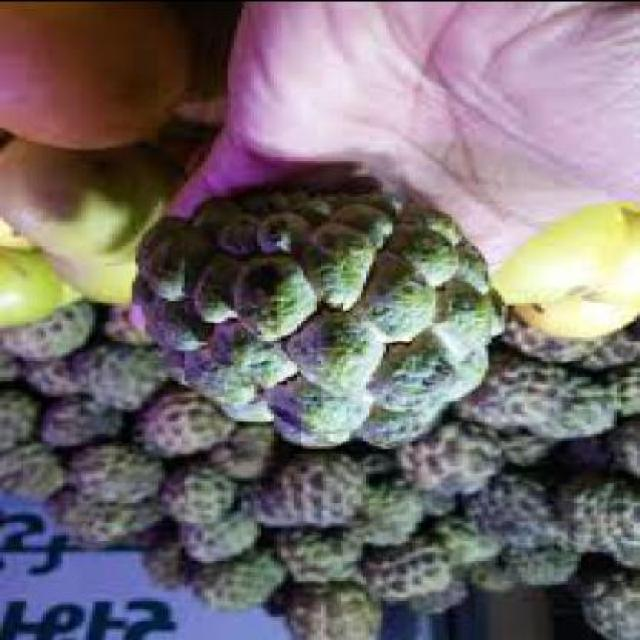BIODEGRADABLE: (132, 190, 502, 458), (0, 3, 188, 151), (4, 130, 168, 262), (492, 205, 636, 344), (43, 230, 135, 316), (508, 366, 607, 440), (258, 459, 356, 527), (191, 544, 284, 613), (60, 442, 158, 507), (43, 489, 148, 549), (399, 428, 498, 489), (454, 353, 532, 430), (551, 469, 620, 554), (72, 345, 162, 410), (136, 393, 224, 458), (157, 462, 240, 526), (476, 474, 544, 552), (40, 390, 126, 450), (286, 584, 379, 638), (270, 528, 356, 584), (362, 543, 442, 603), (1, 249, 59, 329), (178, 506, 255, 566), (571, 573, 637, 638), (3, 305, 75, 363), (363, 479, 419, 547), (484, 546, 574, 586), (425, 522, 498, 570), (1, 442, 59, 500), (515, 317, 587, 363), (208, 428, 270, 477), (23, 348, 79, 401), (603, 484, 637, 570), (0, 385, 40, 452), (144, 522, 182, 590), (412, 578, 462, 620), (597, 363, 637, 415), (100, 303, 148, 346), (603, 421, 637, 479), (495, 435, 548, 467), (0, 334, 20, 383)
